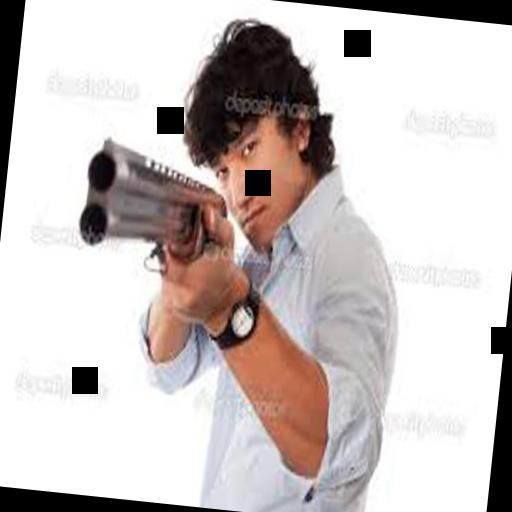Handgun: (64, 128, 230, 364)
